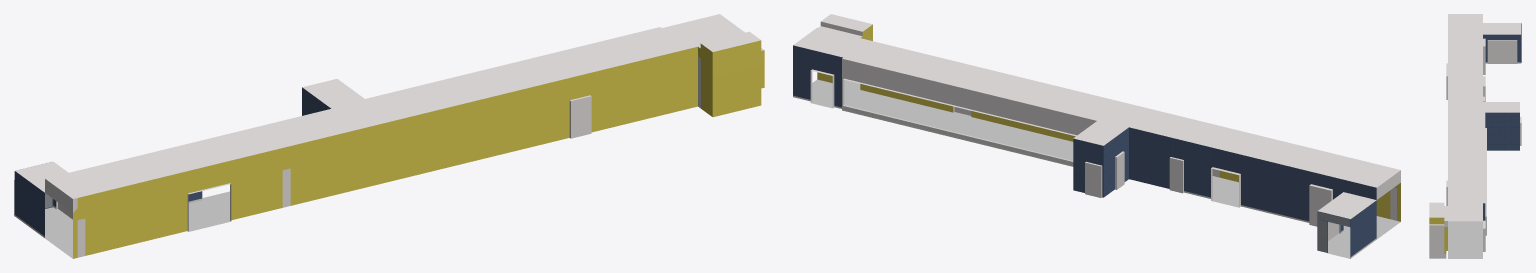
The model's file is SW_corridor__R_lobby_R_Aula_Kautava1.FBX.
3 renders of one model, left to right at view 1: azimuth 30°, elevation 25°; view 2: azimuth 150°, elevation 25°; view 3: azimuth 270°, elevation 25°, orthographic. The views are drawn at different scales.
Parts seen in each view (by area): view 1: SW_corridor__R_lobby_R_Aula_Kautava1; view 2: SW_corridor__R_lobby_R_Aula_Kautava1; view 3: SW_corridor__R_lobby_R_Aula_Kautava1.
Part boxes in pixels (bbox=[...]): SW_corridor__R_lobby_R_Aula_Kautava1: bbox=[14, 14, 764, 258]; SW_corridor__R_lobby_R_Aula_Kautava1: bbox=[793, 14, 1400, 258]; SW_corridor__R_lobby_R_Aula_Kautava1: bbox=[1429, 14, 1521, 258].
Bounding box in the file's own units: 3961 × 744 × 364.
